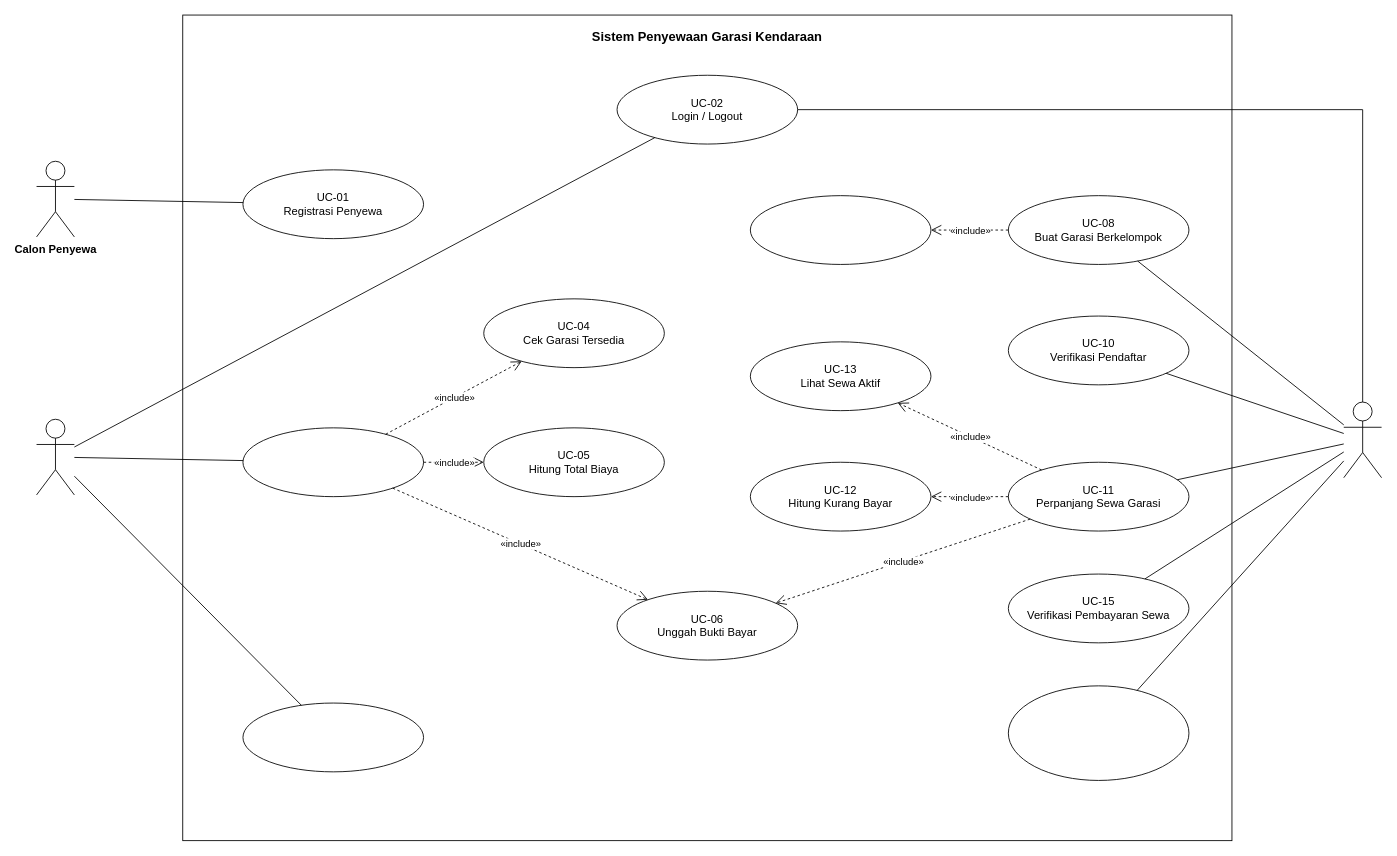
This 1397x856 diagram has some shape labels left out. Each missing label, with the box of its shape:
Admin: (1343, 401, 1382, 478)
Penyewa: (36, 418, 74, 495)
UC-03 Sewa Baru Garasi: (242, 427, 424, 497)
UC-07 Lihat Riwayat Sewa: (242, 702, 424, 772)
UC-09 Buat Kode Garasi Otomatis: (749, 195, 931, 264)
UC-14 Lihat Laporan Sewa (per bulan, per hari, per tipe, per penyewa): (1007, 685, 1189, 780)
